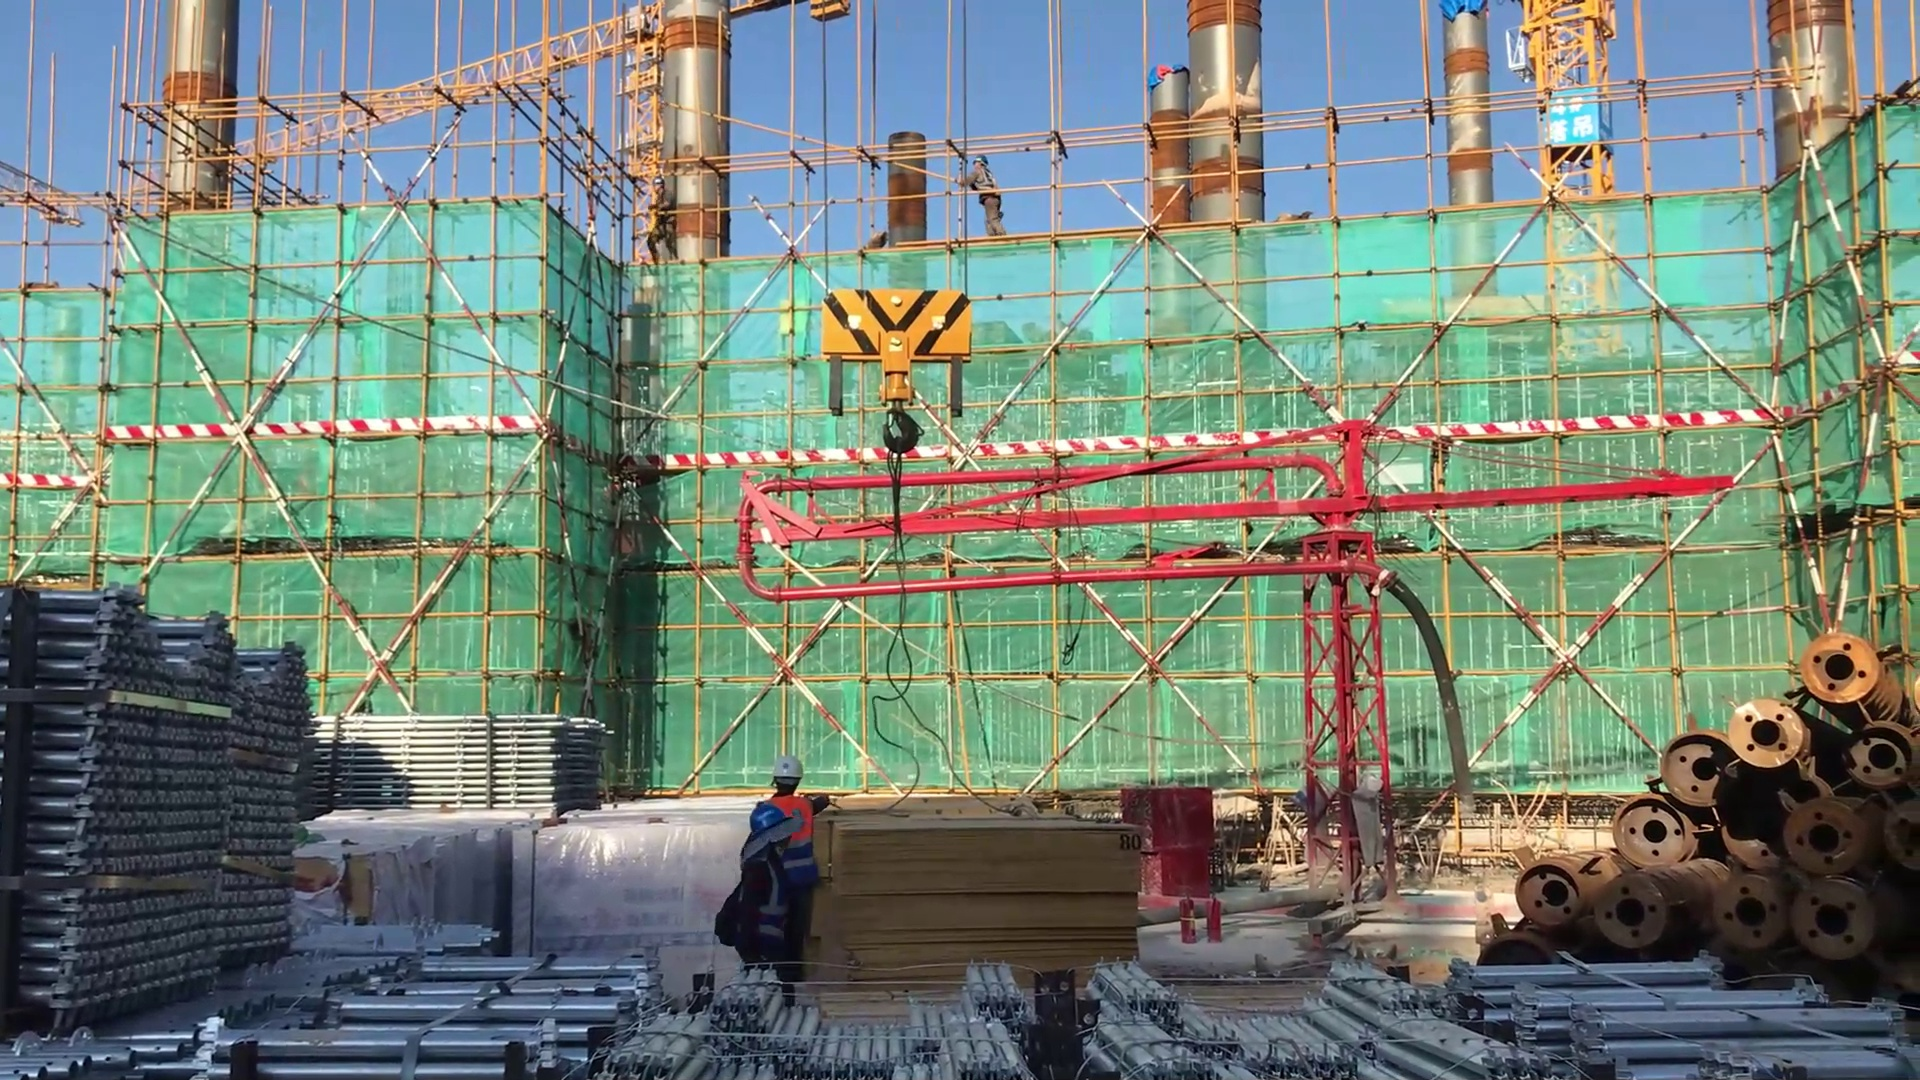board: (812, 802, 1143, 1002)
helmet: (758, 744, 813, 792), (743, 801, 793, 851), (970, 151, 989, 173)
hook: (800, 273, 998, 523)
person: (714, 794, 797, 1028), (763, 748, 834, 975), (945, 146, 1019, 249)
scaffold: (1, 588, 315, 1028), (1, 902, 525, 1078), (1445, 937, 1907, 1080), (605, 953, 1060, 1080), (1073, 951, 1506, 1080), (309, 710, 608, 803), (488, 951, 683, 1074)
slogan: (1538, 91, 1608, 160)
vest: (737, 852, 799, 965), (770, 791, 820, 892), (974, 169, 1003, 204)
